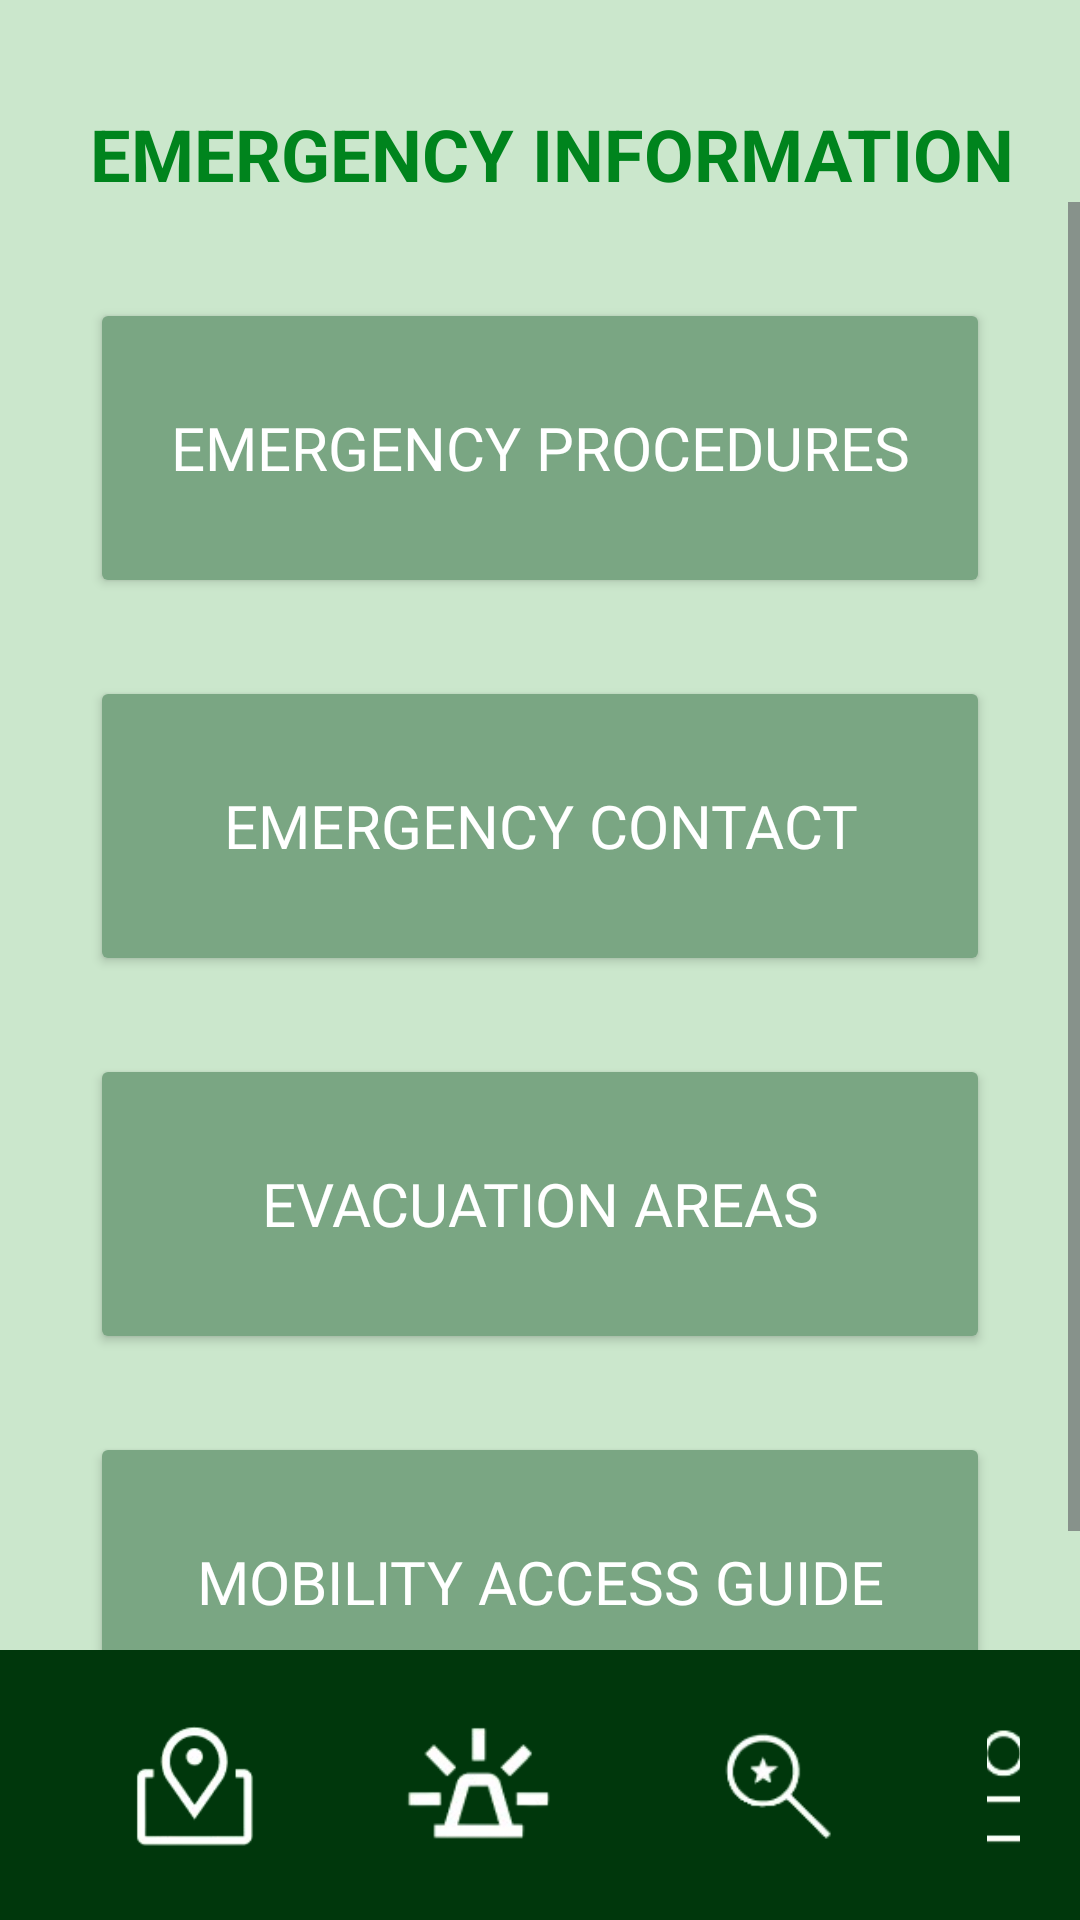

Icon click points for this 1080×1920 phone screenshot, format [x,y]:
Campus Map: [195,1786]
Emergency: [479,1783]
